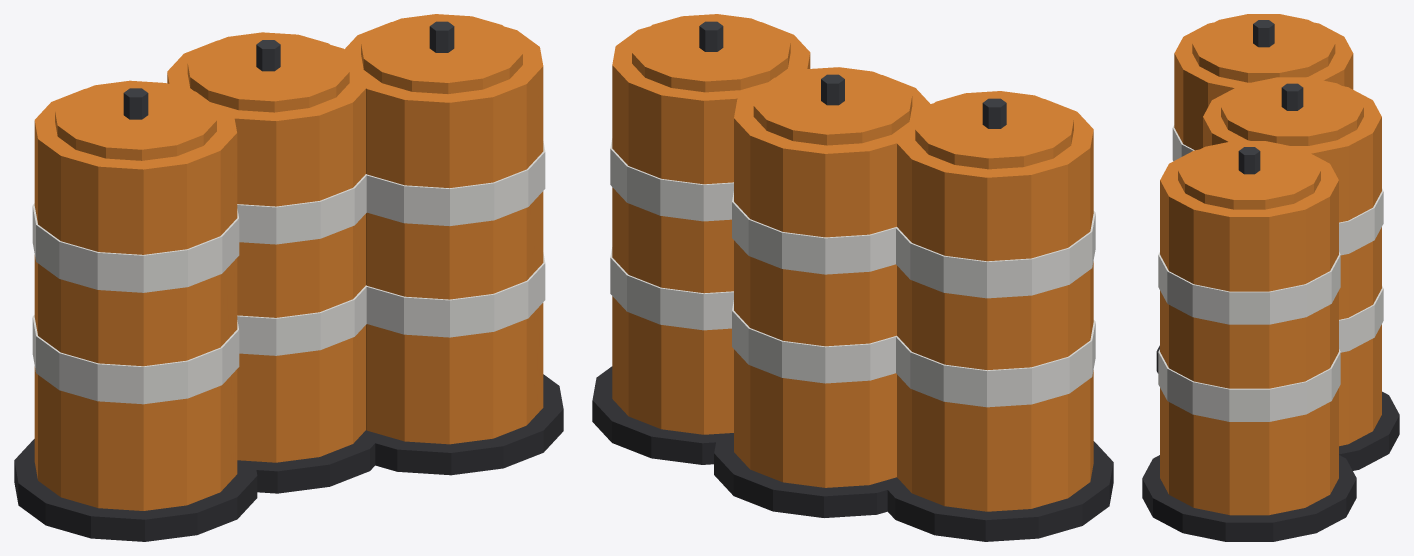
The model's file is traffic_drums.glb.
The picture shows the model from 3 angles, left to right: view 1: azimuth 30°, elevation 25°; view 2: azimuth 150°, elevation 25°; view 3: azimuth 270°, elevation 25°; orthographic projection. The views are drawn at different scales.
Parts seen in each view (by area): view 1: traffic_drums; view 2: traffic_drums; view 3: traffic_drums.
Boxes of the visible parts, bbox=[...] form: traffic_drums: bbox=[14, 14, 563, 541]; traffic_drums: bbox=[592, 14, 1113, 541]; traffic_drums: bbox=[1142, 14, 1399, 541].
Bounding box in the file's own units: 1.42 × 1.07 × 0.72.
